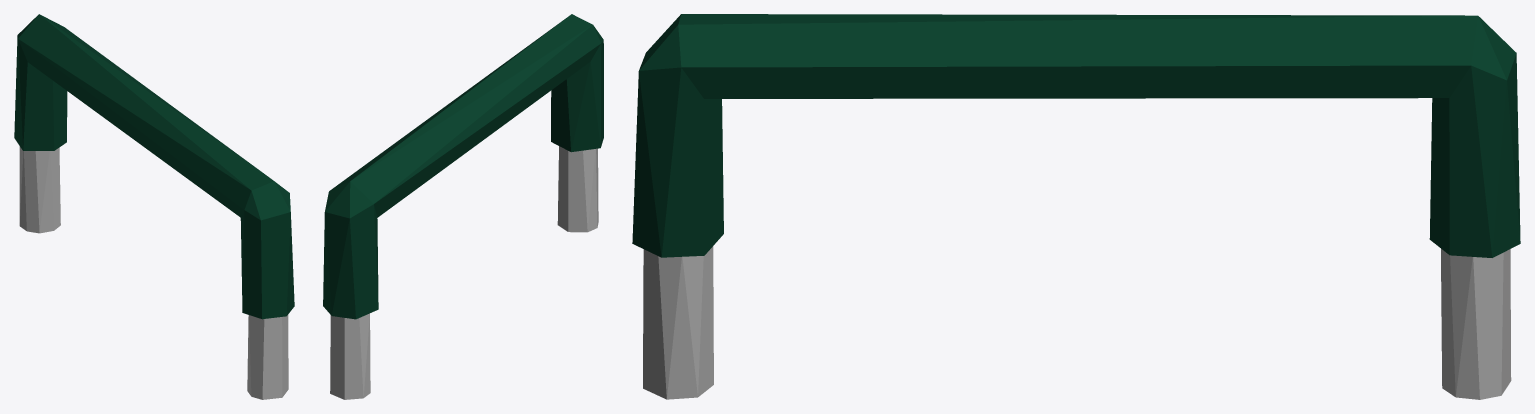
Rendered from wire2.fbx.
3 renders of one model, left to right at view 1: azimuth 30°, elevation 25°; view 2: azimuth 150°, elevation 25°; view 3: azimuth 270°, elevation 25°, orthographic. The views are drawn at different scales.
Visible parts, largest first — view 1: Cylinder.001; view 2: Cylinder.001; view 3: Cylinder.001.
Part boxes in pixels (bbox=[...]): Cylinder.001: bbox=[14, 14, 294, 399]; Cylinder.001: bbox=[323, 14, 603, 399]; Cylinder.001: bbox=[632, 14, 1520, 399].
Size of the model in its own units: 2.58 by 11.11 by 24.25.
